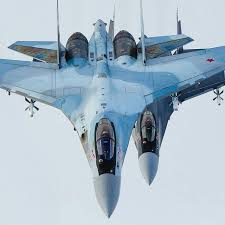maybay_muctieu: (12, 13, 225, 205)
